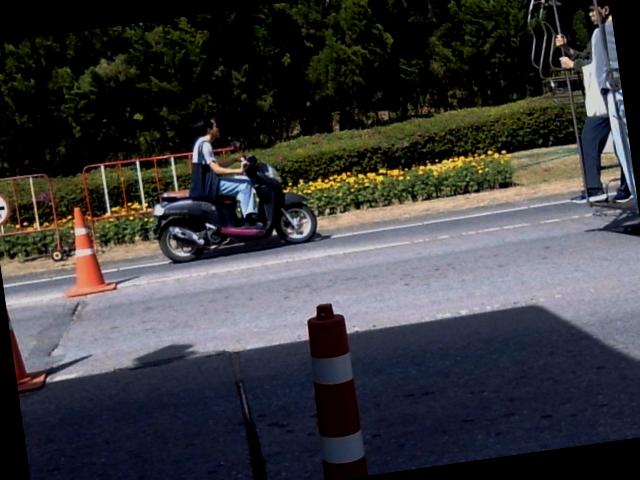motor: (153, 156, 317, 262)
no-helmet: (188, 113, 224, 145)
person: (190, 115, 259, 228)
